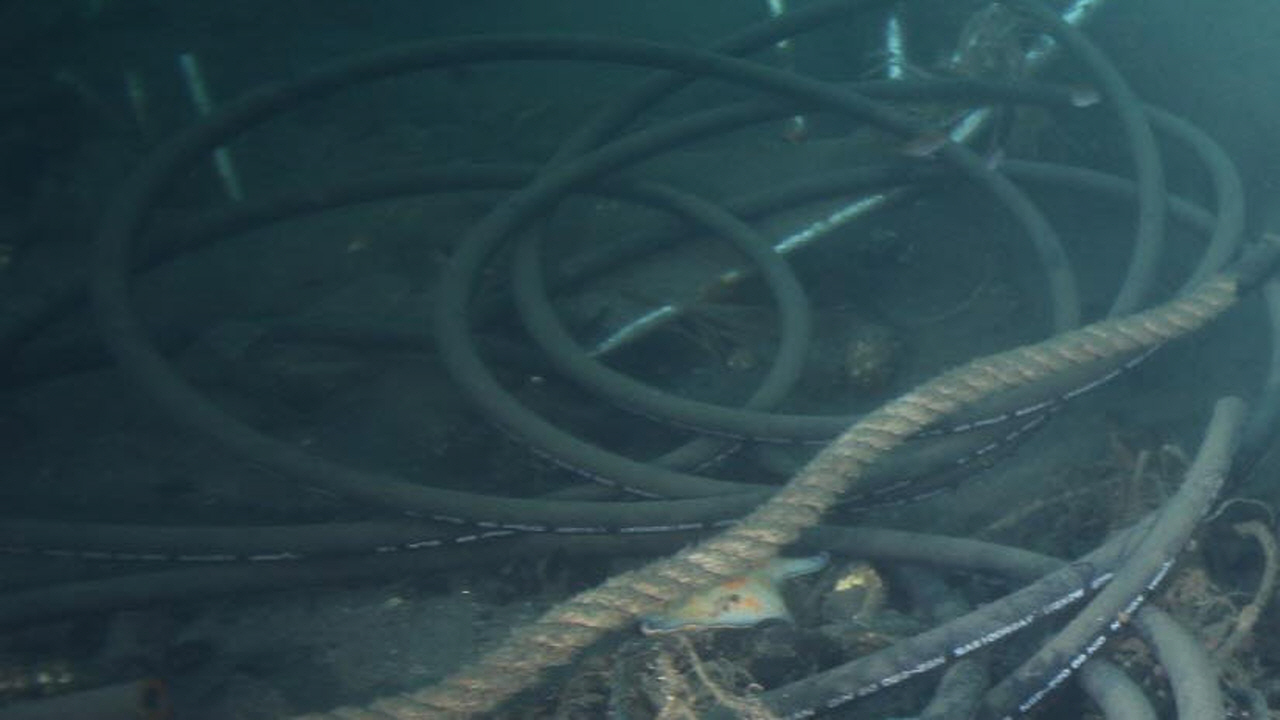rope: (324, 270, 1240, 720)
